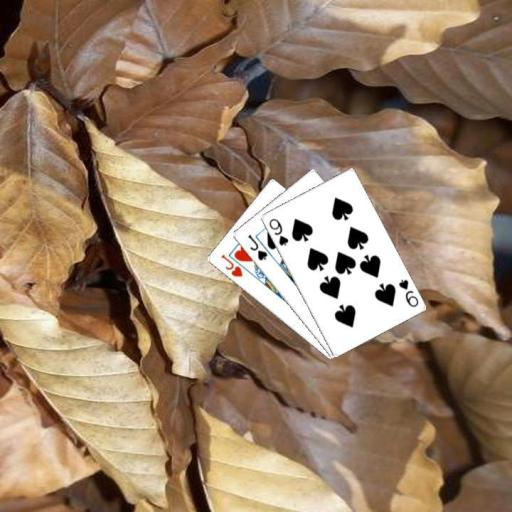9S: (396, 276, 420, 309), (266, 215, 290, 247)
JH: (218, 251, 244, 279)
JS: (245, 231, 269, 262)
